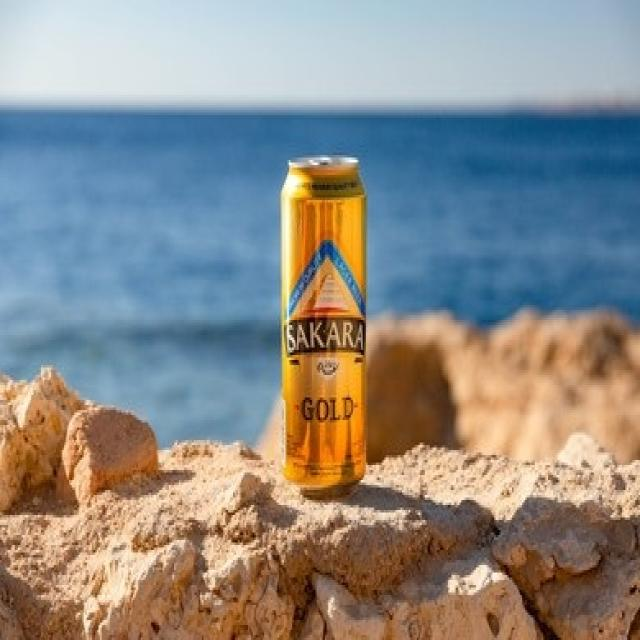Metal Waste: (279, 145, 371, 487)
